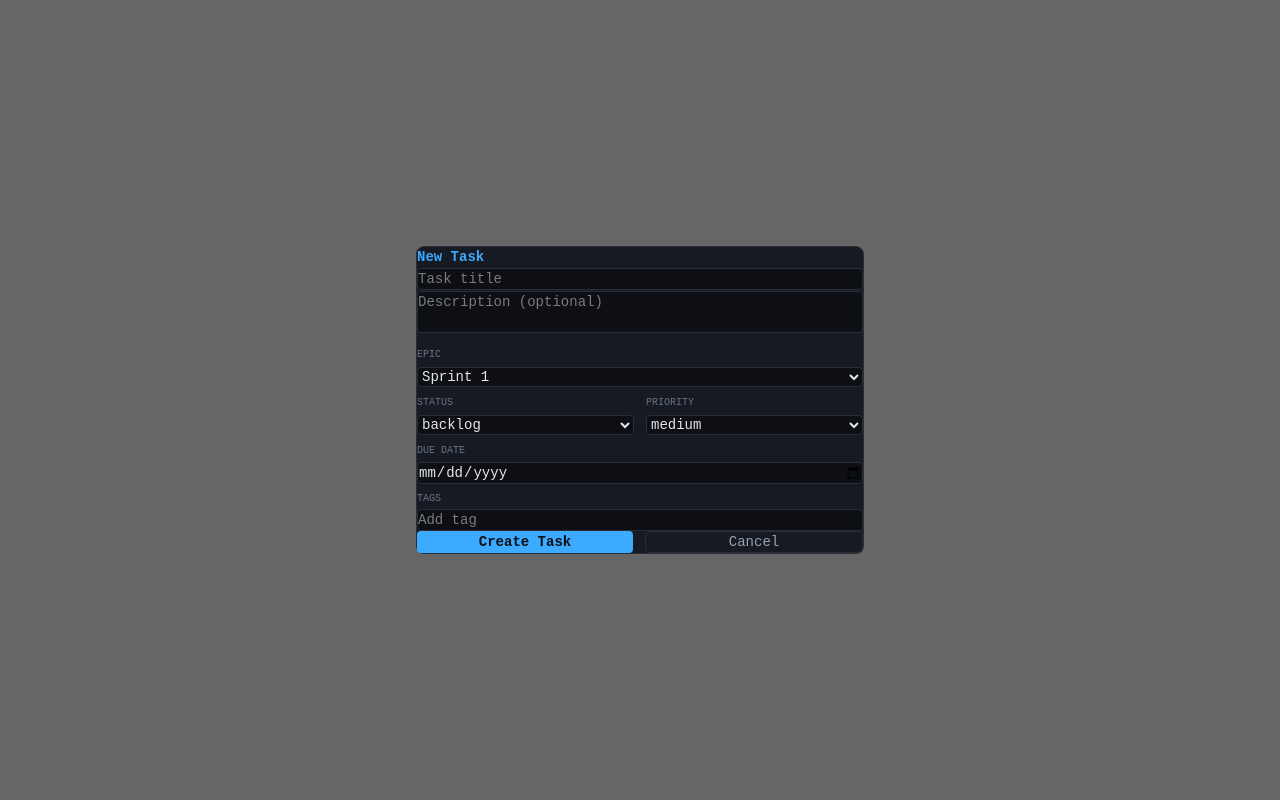
Scenario: TaskModal — Create Mode › disables the submit button while saving is in progress
In the field with placeholder "Task title": (640, 279) 417,268 -> 863,290, type "Test"
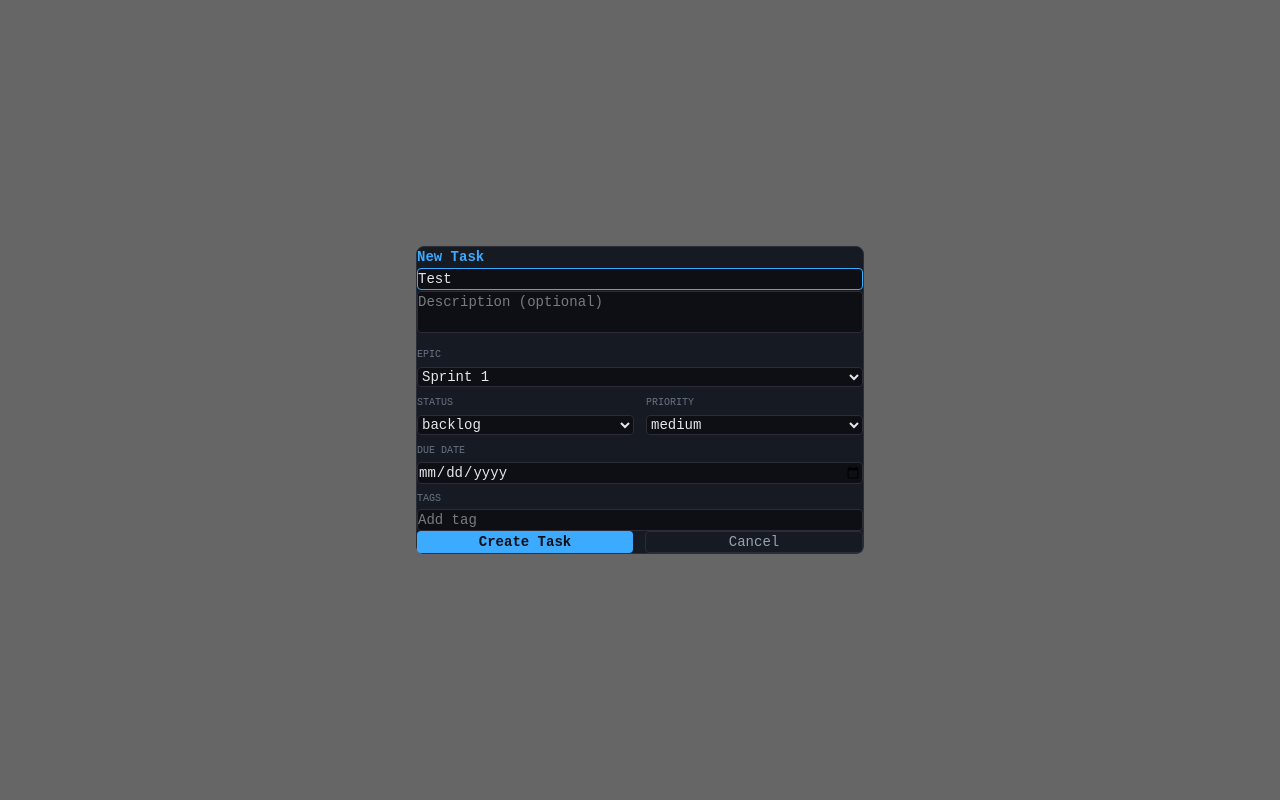
Click the button "Create Task": click(525, 542) 417,531 -> 633,553
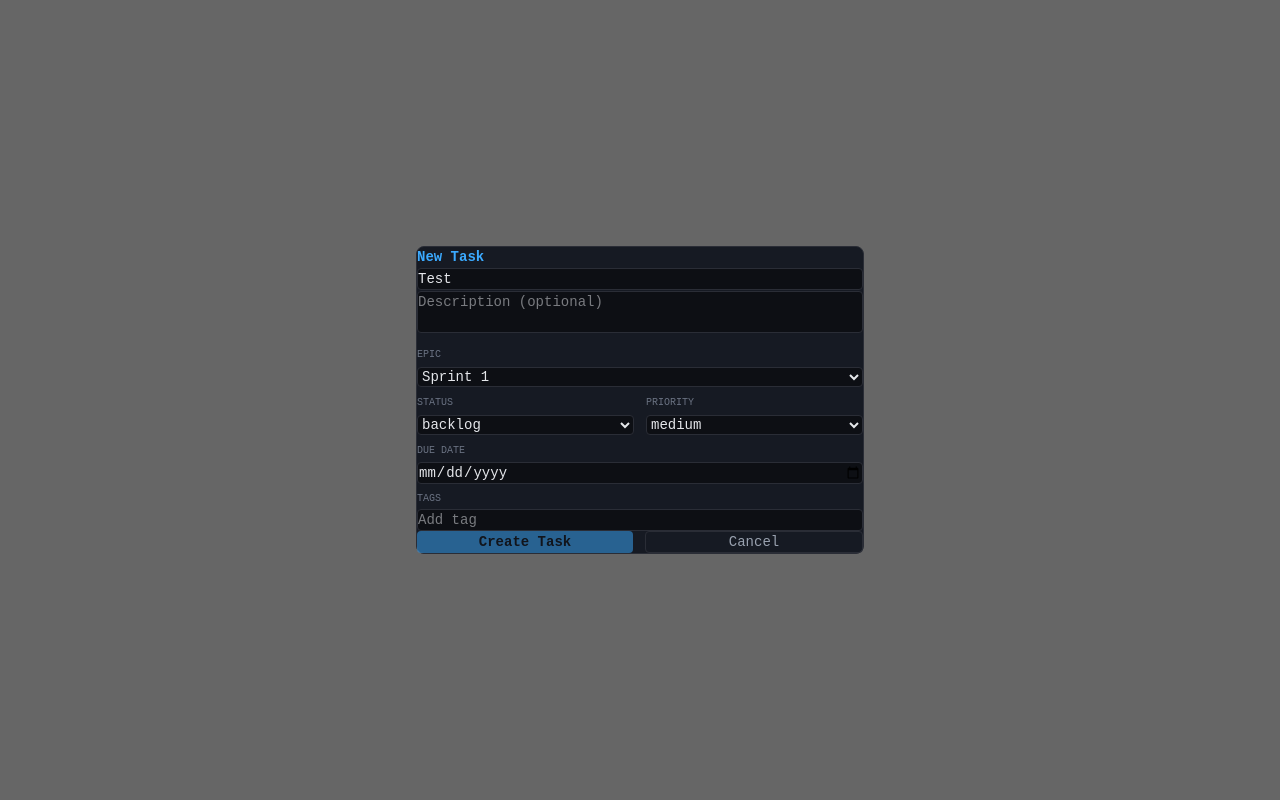
Check: the button "Create Task" is disabled, box 417,531 -> 633,553
